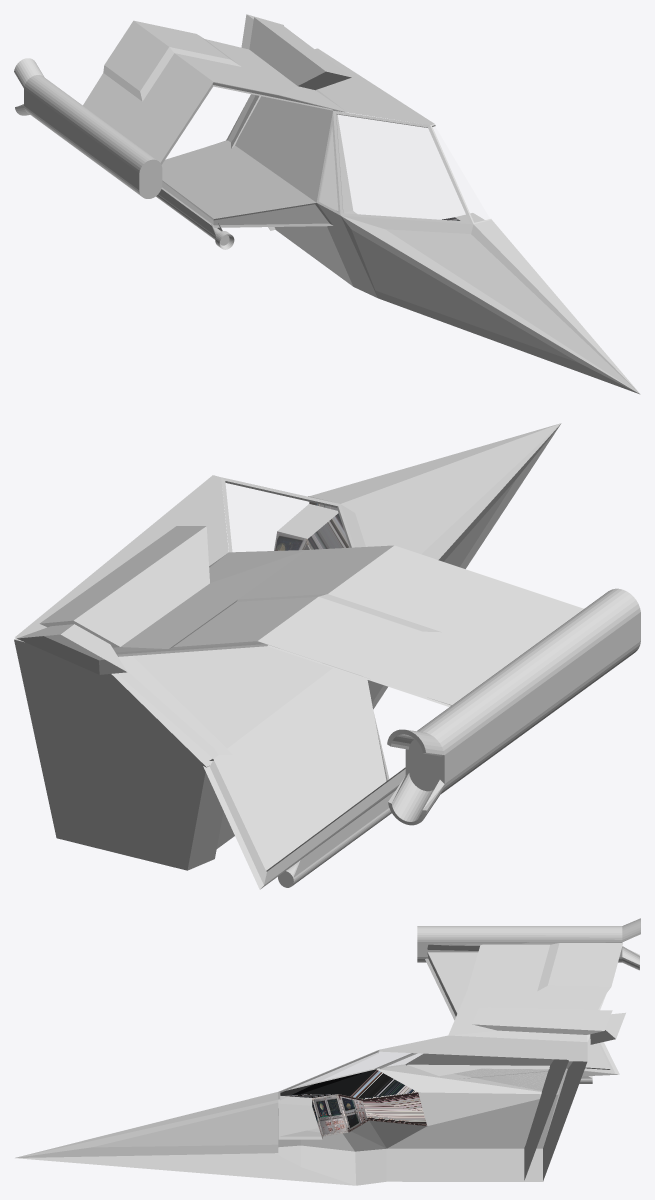
File: ShipModel.glb
3 renders of one model, top to bottom at view 1: azimuth 30°, elevation 25°; view 2: azimuth 150°, elevation 25°; view 3: azimuth 270°, elevation 25°, orthographic. The views are drawn at different scales.
Parts seen in each view (by area): view 1: Cube; view 2: Cube; view 3: Cube.
Boxes of the visible parts, x1,y1,x2,y2 form: Cube: (14, 14, 640, 394); Cube: (14, 423, 640, 889); Cube: (15, 918, 640, 1185).
Bounding box in the file's own units: 15.24 × 10.26 × 33.91.
Materials: 3 (1 with a texture image).
